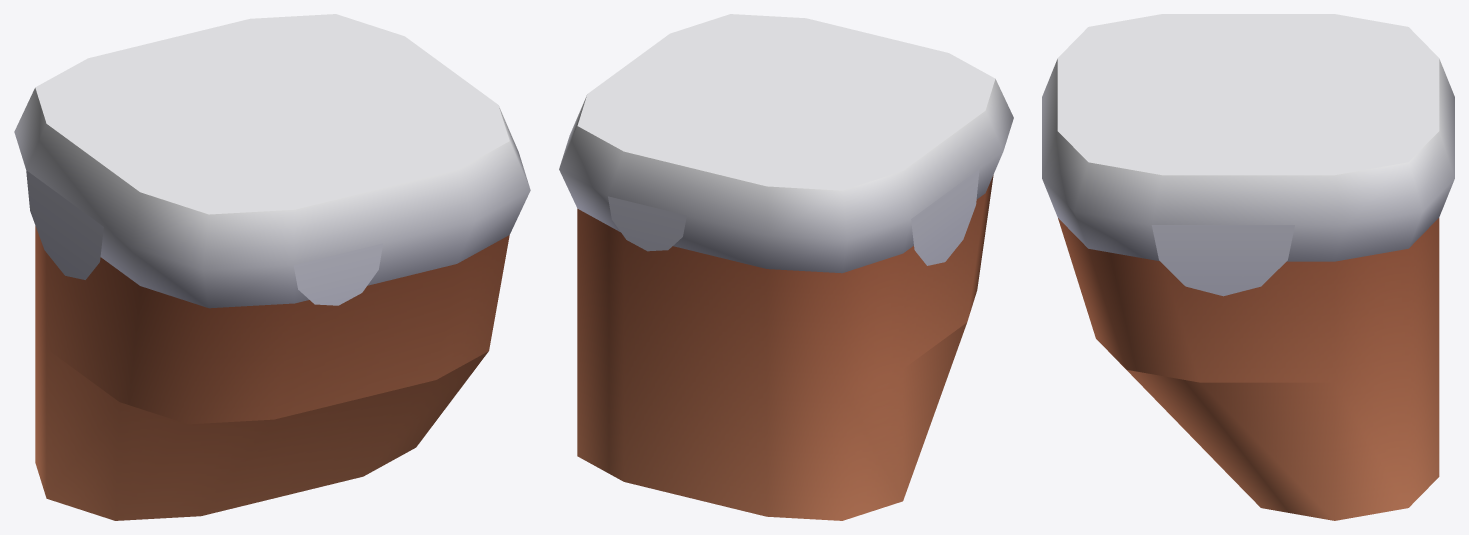
File: block-snow-overhang-edge.glb
3 renders of one model, left to right at view 1: azimuth 30°, elevation 25°; view 2: azimuth 150°, elevation 25°; view 3: azimuth 270°, elevation 25°, orthographic. The views are drawn at different scales.
Visible parts, largest first — view 1: block-snow-overhang-edge; view 2: block-snow-overhang-edge; view 3: block-snow-overhang-edge.
Part boxes in pixels (bbox=[...]): block-snow-overhang-edge: bbox=[14, 14, 530, 520]; block-snow-overhang-edge: bbox=[559, 14, 1013, 520]; block-snow-overhang-edge: bbox=[1042, 14, 1454, 520].
Bounding box in the file's own units: 1.08 × 1 × 1.08.
1 material, 1 textured.
